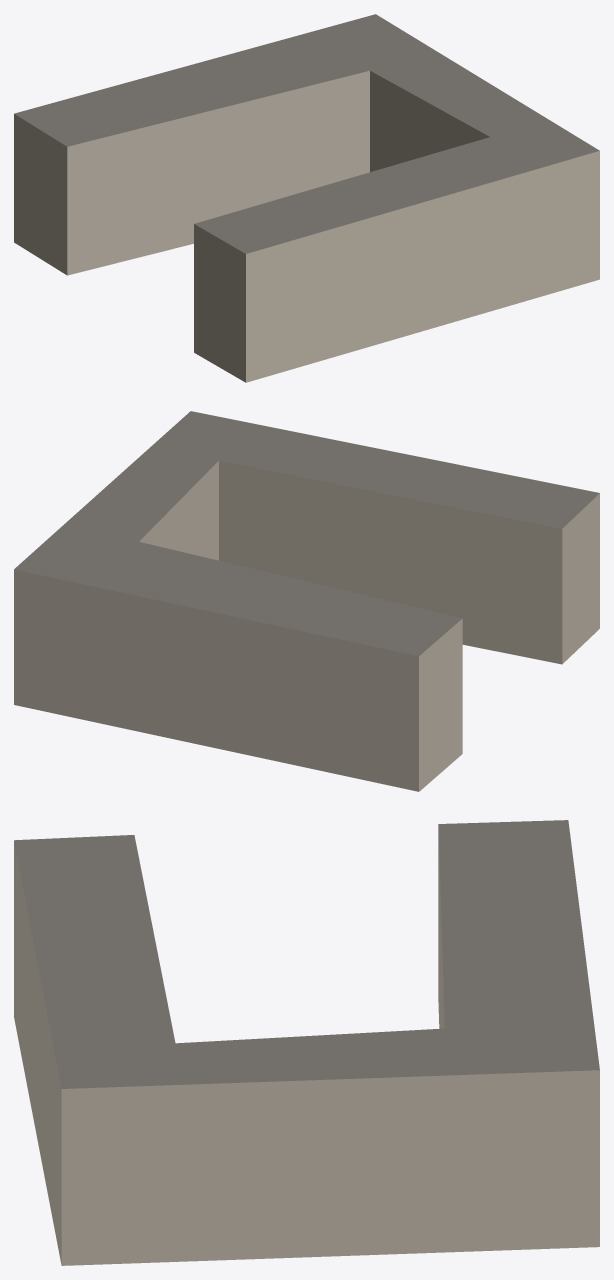
3 renders of one model, top to bottom at view 1: azimuth 30°, elevation 25°; view 2: azimuth 150°, elevation 25°; view 3: azimuth 270°, elevation 25°, orthographic. The views are drawn at different scales.
Visible parts, largest first — view 1: HP-w766414486; view 2: HP-w766414486; view 3: HP-w766414486.
Part boxes in pixels (<box>): HP-w766414486: <box>14,14,599,382</box>; HP-w766414486: <box>14,411,599,791</box>; HP-w766414486: <box>14,820,599,1265</box>.
Size of the model in its own units: 58.71 by 18 by 54.05.
